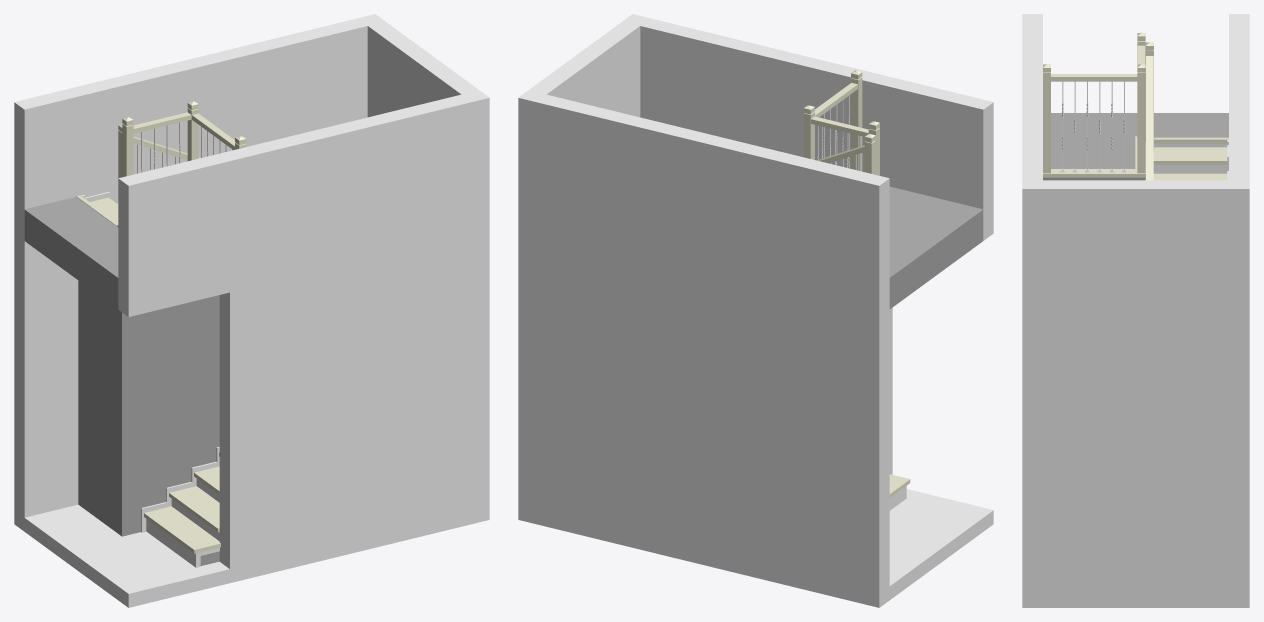
The model's file is Обустройство лестницы на бетонном основании.obj.
3 renders of one model, left to right at view 1: azimuth 30°, elevation 25°; view 2: azimuth 150°, elevation 25°; view 3: azimuth 270°, elevation 25°, orthographic.
Size of the model in its own units: 4.03 by 4.61 by 2.21.
